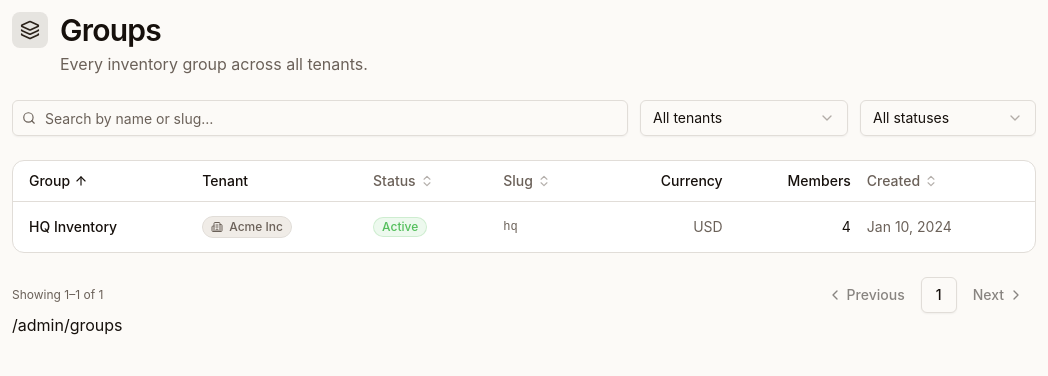
Test case: AdminGroupsPage › sends the typed search term to the server as ?q and persists it in the URL
Check: the text "HQ Inventory" is shown, box 29,218 -> 117,234
Type "warehouse" into the field with test id "admin-groups-search". click: (320, 118)
box: 12,100 -> 628,136
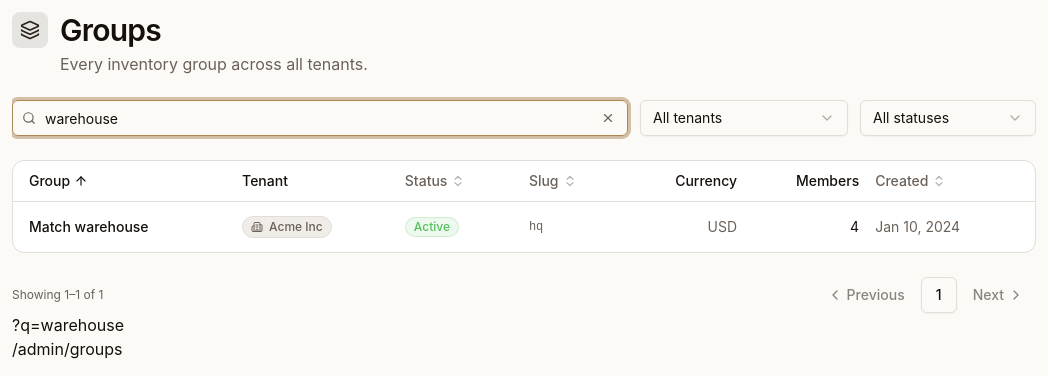
Check: the text "Match warehouse" is shown, box 29,218 -> 149,234
